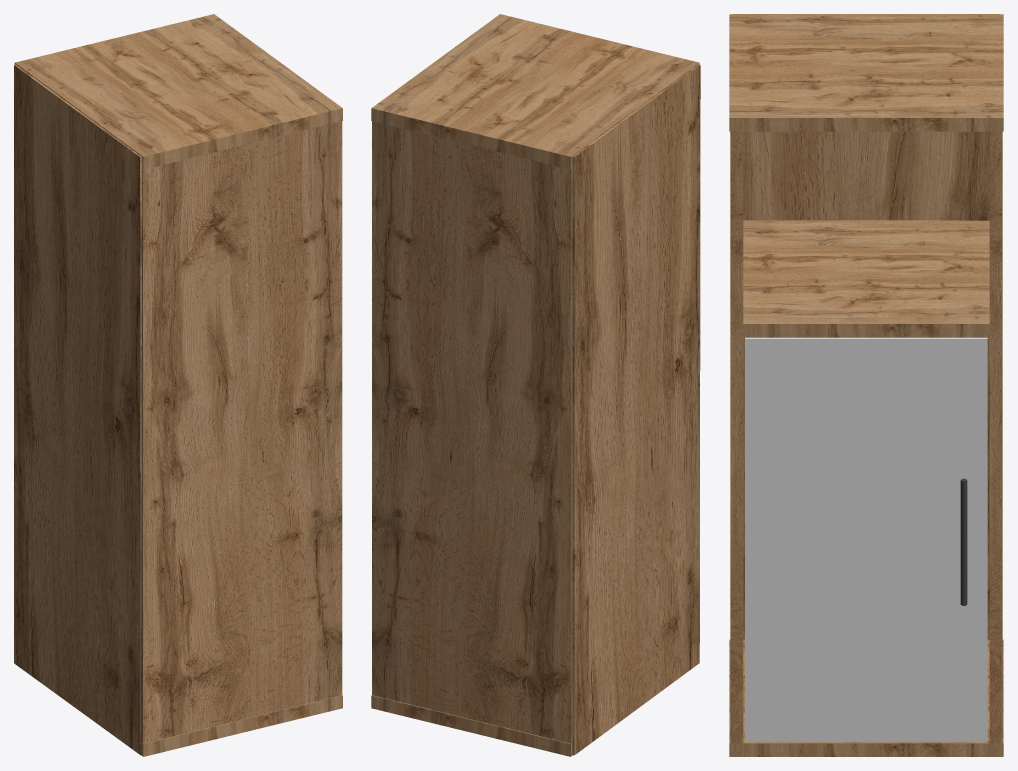
File: drawer.glb
The picture shows the model from 3 angles, left to right: view 1: azimuth 30°, elevation 25°; view 2: azimuth 150°, elevation 25°; view 3: azimuth 270°, elevation 25°; orthographic projection. The views are drawn at different scales.
Parts seen in each view (by area): view 1: Shape_IndexedFaceSet053, Shape_IndexedFaceSet059, M, Shape_IndexedFaceSet010.001; view 2: Shape_IndexedFaceSet045, Shape_IndexedFaceSet059, M, Shape_IndexedFaceSet010.001; view 3: Shape_IndexedFaceSet058, M, Shape_IndexedFaceSet062, Shape_IndexedFaceSet059, Shape_IndexedFaceSet045, Shape_IndexedFaceSet053, Shape_IndexedFaceSet010.001, Bpt.
Part boxes in pixels (bbox=[...]): Shape_IndexedFaceSet053: bbox=[141, 121, 342, 743]; Shape_IndexedFaceSet059: bbox=[14, 64, 142, 755]; M: bbox=[14, 14, 342, 169]; Shape_IndexedFaceSet010.001: bbox=[141, 695, 342, 756]; Shape_IndexedFaceSet045: bbox=[372, 121, 572, 743]; Shape_IndexedFaceSet059: bbox=[572, 64, 700, 755]; M: bbox=[371, 14, 699, 169]; Shape_IndexedFaceSet010.001: bbox=[371, 695, 572, 756]; Shape_IndexedFaceSet058: bbox=[745, 337, 987, 741]; M: bbox=[729, 14, 1003, 131]; Shape_IndexedFaceSet062: bbox=[743, 220, 989, 337]; Shape_IndexedFaceSet059: bbox=[732, 14, 999, 639]; Shape_IndexedFaceSet045: bbox=[989, 131, 1002, 743]; Shape_IndexedFaceSet053: bbox=[730, 131, 743, 743]; Shape_IndexedFaceSet010.001: bbox=[729, 639, 1003, 756]; Bpt: bbox=[960, 478, 967, 605].
Size of the model in its own units: 0.3228 by 0.8541 by 0.3321.
Materials: 4 (2 with a texture image).
